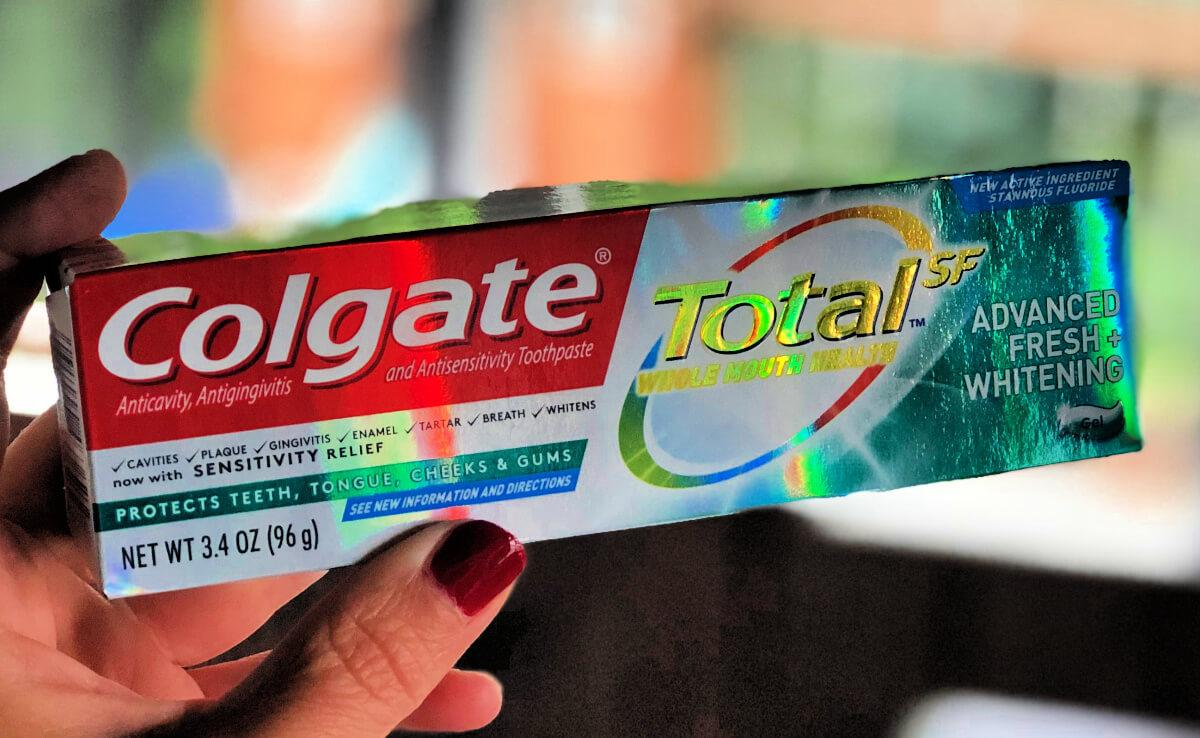toothpaste: (41, 141, 1153, 648)
